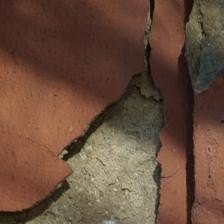Crack: (0, 0, 75, 170), (0, 17, 81, 125), (45, 72, 116, 151)
